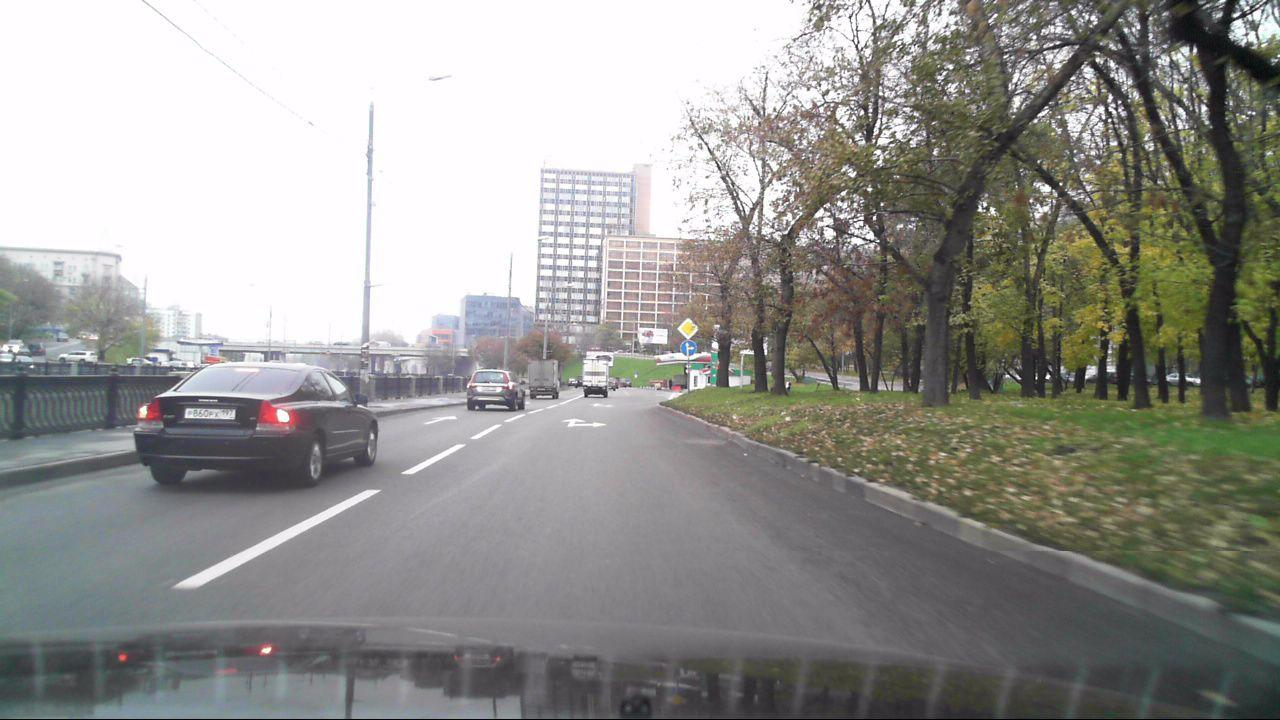road_sign: (677, 317, 700, 339), (680, 340, 697, 356)
